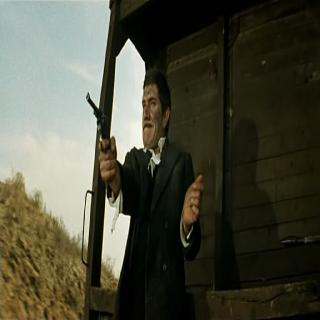gun: (83, 82, 116, 187)
